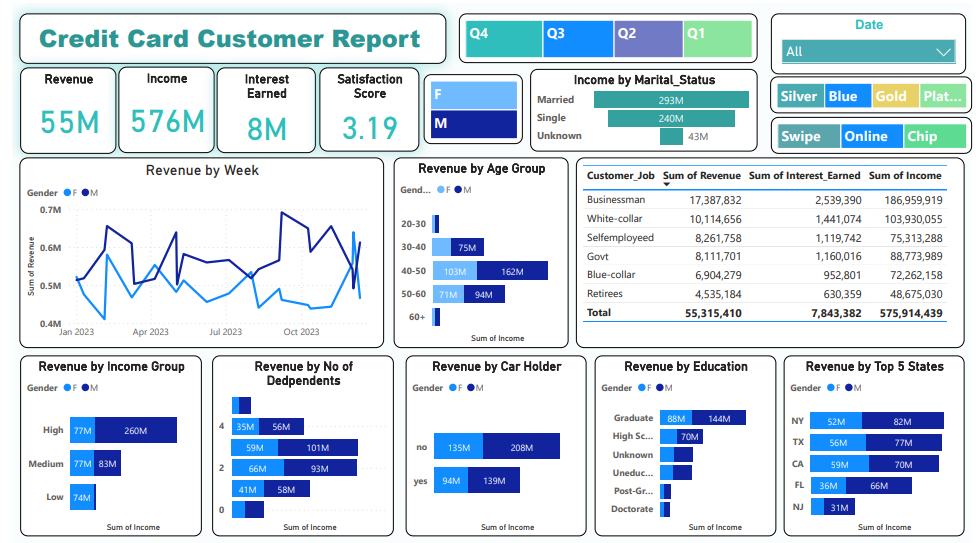

The page's visual inventory and layout, read from the dashboard file:
{"tool":"powerbi","page":{"name":"C. Card Customer ","canvas":[1280,720],"ordinal":1},"visuals":[{"type":"textbox","box":[9.9,14.1,568.6,66.5],"z":0},{"type":"barChart","title":"Revenue by Income Group","fields":{"Category":["customer.Income_Group"],"Y":["Sum(customer.Income)"],"Series":["customer.Gender"]},"box":[11.5,469.9,241.4,241.4],"z":1000},{"type":"pivotTable","fields":{"Values":["Sum(credit_card.Revenue)","Sum(credit_card.Interest_Earned)","Sum(customer.Income)"],"Rows":["customer.Customer_Job"]},"box":[751.6,205.5,518.8,254.4],"z":2000},{"type":"card","title":"Revenue","fields":{"Values":["Sum(credit_card.Revenue)"]},"box":[11.3,86,127.3,114.6],"z":3000},{"type":"card","title":"Income","fields":{"Values":["Sum(customer.Income)"]},"box":[142.3,84.8,127.9,115],"z":4000},{"type":"card","title":"Interest Earned","fields":{"Values":["Sum(credit_card.Interest_Earned)"]},"box":[273.1,86.2,132.2,113.5],"z":5000},{"type":"card","title":"Satisfaction Score","fields":{"Values":["Avg(customer.Cust_Satisfaction_Score)"]},"box":[409.6,86.2,133.7,112.1],"z":6000},{"type":"slicer","title":"Date","fields":{"Values":["credit_card.Week_Start_Date"]},"box":[1011.7,14.4,260.1,80.5],"z":7000},{"type":"treemap","fields":{"Group":["credit_card.Qtr"],"Values":["Avg(credit_card.Client_Num)"]},"box":[596.4,14.4,398.1,66.1],"z":8000},{"type":"treemap","fields":{"Values":["Avg(credit_card.Client_Num)"],"Group":["credit_card.Card_Category"]},"box":[1011.2,97.7,268.7,48.9],"z":9000},{"type":"treemap","fields":{"Values":["Avg(credit_card.Client_Num)"],"Group":["customer.Gender"]},"box":[549,94.9,132.2,93.4],"z":10000},{"type":"lineChart","title":"Revenue by Week","fields":{"Y":["Sum(credit_card.Revenue)"],"Series":["customer.Gender"],"Category":["credit_card.Week_Start_Date.Variation.Date Hierarchy.Year","credit_card.Week_Start_Date.Variation.Date Hierarchy.Month","credit_card.Week_Start_Date.Variation.Date Hierarchy.Day"]},"box":[10.1,205.5,485.7,254.4],"z":11000},{"type":"barChart","title":"Revenue by Age Group","fields":{"Y":["Sum(customer.Income)"],"Category":["customer.Age_Group_2"],"Series":["customer.Gender"]},"box":[508.7,205.5,232.8,254.4],"z":12000},{"type":"barChart","title":"Revenue by No of Dedpendents","fields":{"Y":["Sum(customer.Income)"],"Category":["customer.Dependent_Count"],"Series":["customer.Gender"]},"box":[267.3,469.9,241.4,241.4],"z":13000},{"type":"barChart","title":"Revenue by Education","fields":{"Y":["Sum(customer.Income)"],"Category":["customer.Education_Level"],"Series":["customer.Gender"]},"box":[777.5,469.9,241.4,241.4],"z":14000},{"type":"barChart","title":"Revenue by Top 5 States","fields":{"Y":["Sum(customer.Income)"],"Category":["customer.state_cd"],"Series":["customer.Gender"]},"box":[1029,469.9,241.4,241.4],"z":15000},{"type":"barChart","title":"Revenue by Car Holder","fields":{"Y":["Sum(customer.Income)"],"Series":["customer.Gender"],"Category":["customer.Car_Owner"]},"box":[524.6,469.9,241.4,241.4],"z":16000},{"type":"treemap","fields":{"Values":["Avg(credit_card.Client_Num)"],"Group":["credit_card.Use Chip"]},"box":[1011.7,152.3,268.7,48.9],"z":17000},{"type":"funnel","title":"Income by Marital_Status","fields":{"Y":["Sum(customer.Income)"],"Category":["customer.Marital_Status"]},"box":[691.3,87.7,303.2,110.7],"z":17001}]}

Visuals, with their boxes in screenshot pixels (x1, y1, x2, y2), scaled from the page's 1280x720 canvas onto the 976x543 screenshot:
textbox: pyautogui.locateOnScreen(8, 11, 441, 61)
"Revenue by Income Group" barChart: pyautogui.locateOnScreen(9, 354, 193, 536)
pivotTable - Sum(credit_card.Revenue) x Sum(credit_card.Interest_Earned): pyautogui.locateOnScreen(573, 155, 969, 347)
"Revenue" card: pyautogui.locateOnScreen(9, 65, 106, 151)
"Income" card: pyautogui.locateOnScreen(109, 64, 206, 151)
"Interest Earned" card: pyautogui.locateOnScreen(208, 65, 309, 151)
"Satisfaction Score" card: pyautogui.locateOnScreen(312, 65, 414, 150)
"Date" slicer: pyautogui.locateOnScreen(771, 11, 970, 72)
treemap - credit_card.Qtr x Avg(credit_card.Client_Num): pyautogui.locateOnScreen(455, 11, 758, 61)
treemap - Avg(credit_card.Client_Num) x credit_card.Card_Category: pyautogui.locateOnScreen(771, 74, 975, 111)
treemap - Avg(credit_card.Client_Num) x customer.Gender: pyautogui.locateOnScreen(419, 72, 519, 142)
"Revenue by Week" lineChart: pyautogui.locateOnScreen(8, 155, 378, 347)
"Revenue by Age Group" barChart: pyautogui.locateOnScreen(388, 155, 565, 347)
"Revenue by No of Dedpendents" barChart: pyautogui.locateOnScreen(204, 354, 388, 536)
"Revenue by Education" barChart: pyautogui.locateOnScreen(593, 354, 777, 536)
"Revenue by Top 5 States" barChart: pyautogui.locateOnScreen(785, 354, 969, 536)
"Revenue by Car Holder" barChart: pyautogui.locateOnScreen(400, 354, 584, 536)
treemap - Avg(credit_card.Client_Num) x credit_card.Use Chip: pyautogui.locateOnScreen(771, 115, 975, 152)
"Income by Marital_Status" funnel: pyautogui.locateOnScreen(527, 66, 758, 150)
